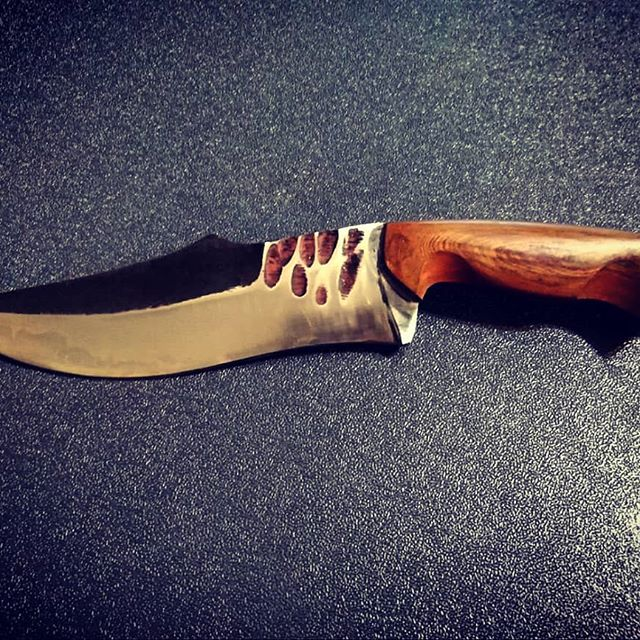knife: (2, 220, 640, 379)
